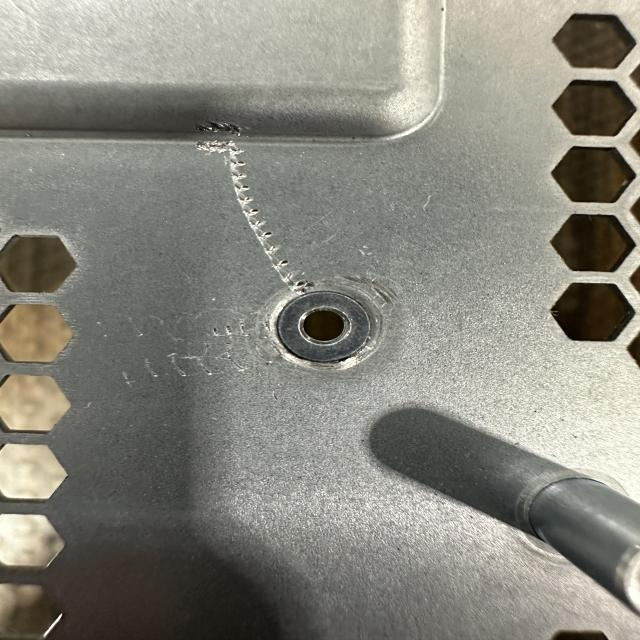Missing screw: (262, 281, 393, 373)
